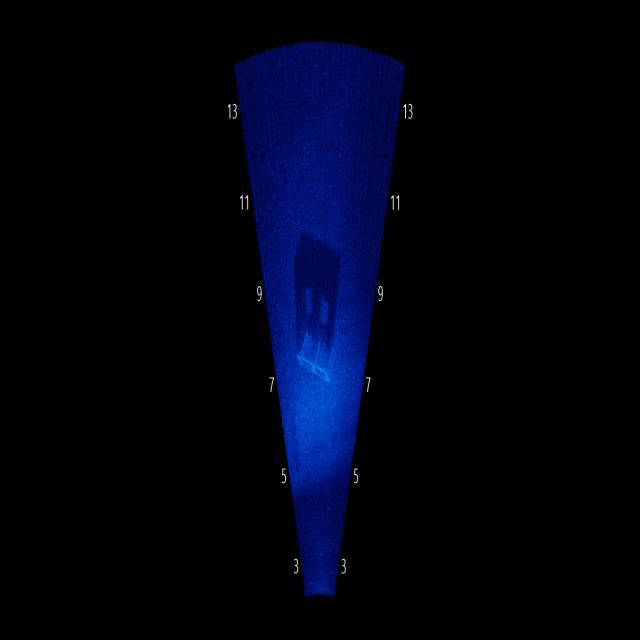square: (292, 310, 345, 390)
